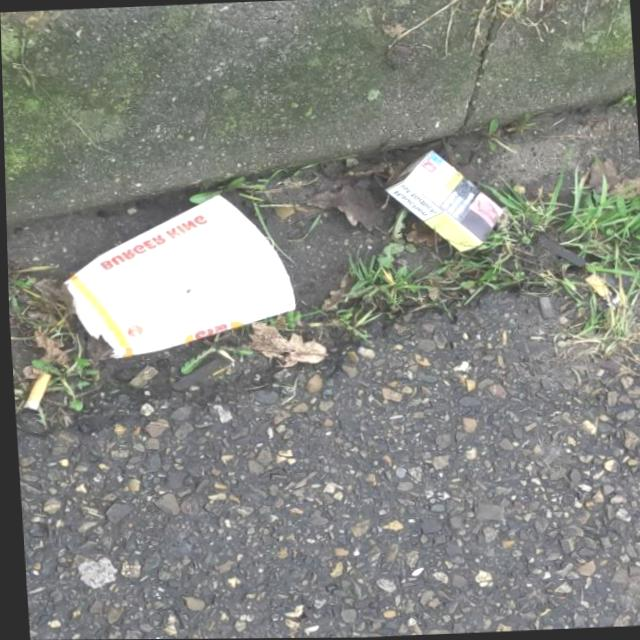Paper: (379, 146, 508, 258)
Plastic: (56, 188, 301, 360)
